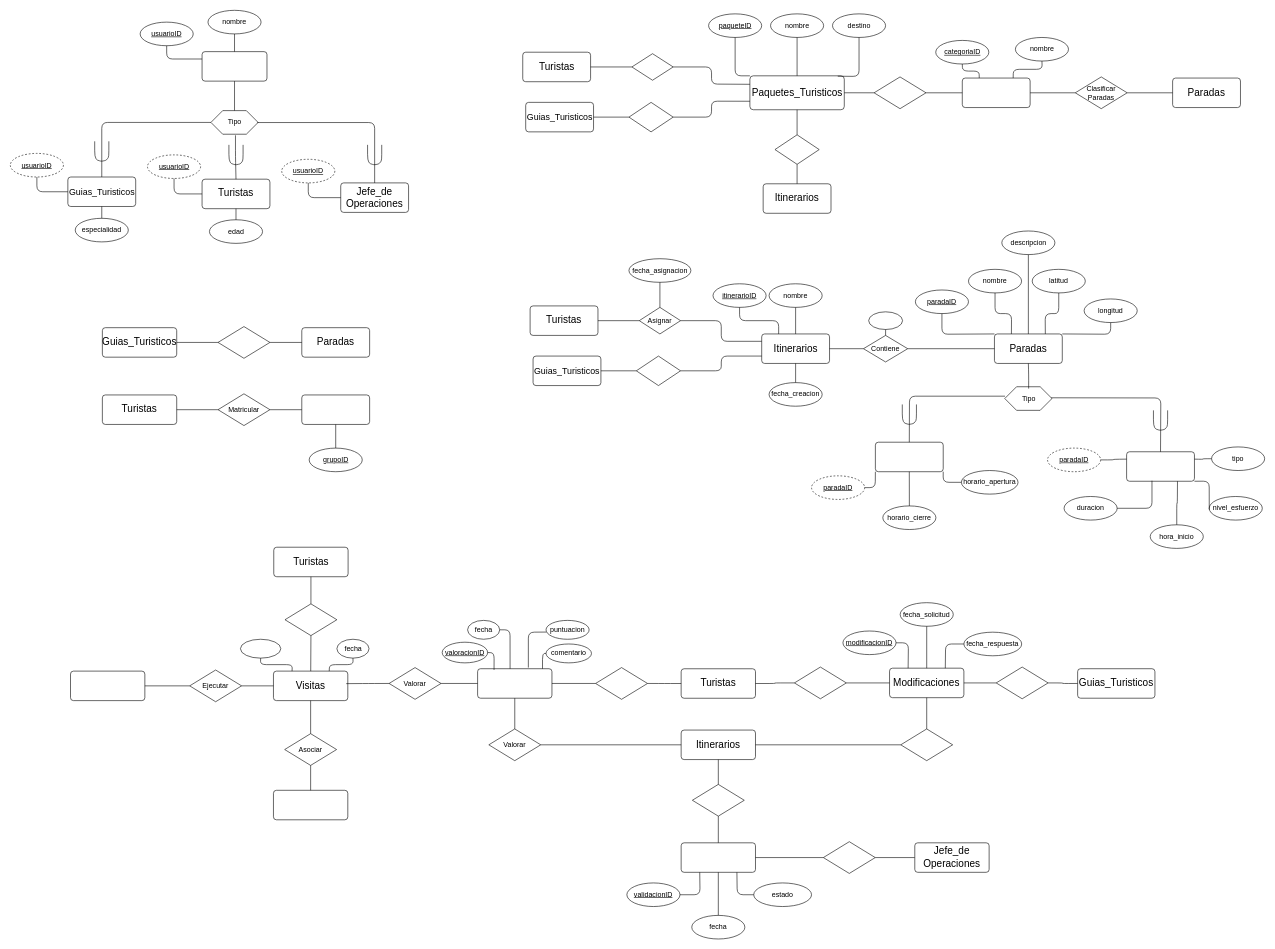
Some shapes in this 1275 by 949 pixel diagram are drawn without their labels. The shapes that lost their labels are listed below. From the top down, each one's centre as x and y in pixels, then its label:
At (x=234, y=66): "Usuarios".
At (x=652, y=66): "Inscribir".
At (x=899, y=92): "Clasificar Paquetes".
At (x=996, y=92): "Categorias".
At (x=650, y=117): "Autorizar".
At (x=796, y=149): "Pertenecer".
At (x=885, y=320): "orden".
At (x=243, y=342): "Registrar".
At (x=658, y=370): "Crear".
At (x=335, y=409): "Grupo".
At (x=909, y=457): "Atracciones".
At (x=1160, y=466): "Actividades".
At (x=310, y=619): "Realizar".
At (x=260, y=648): "visitasID".
At (x=107, y=686): "Itinerario".
At (x=514, y=683): "Valoraciones".
At (x=621, y=683): "Opinar".
At (x=820, y=682): "Solicitar".
At (x=1022, y=682): "Apoyar".
At (x=926, y=744): "Afectar".
At (x=310, y=805): "Parada".
At (x=718, y=800): "Incidir".
At (x=718, y=857): "Validaciones".
At (x=849, y=857): "Aprobar".
